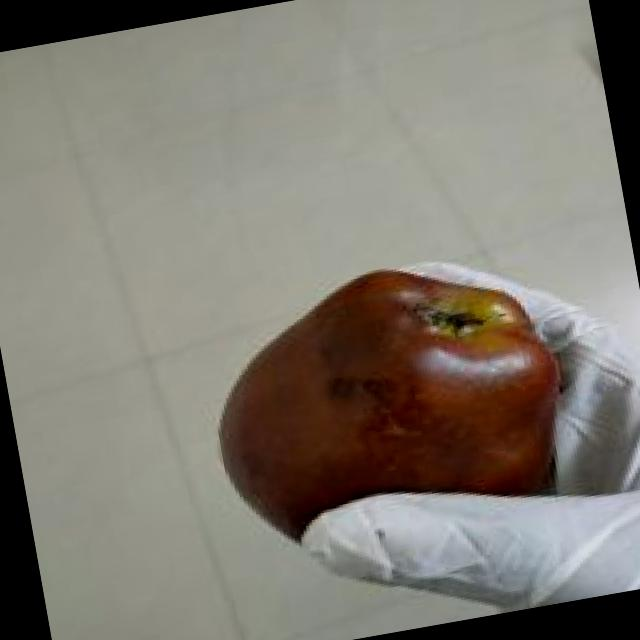Rotten_Apple: (187, 240, 585, 548)
